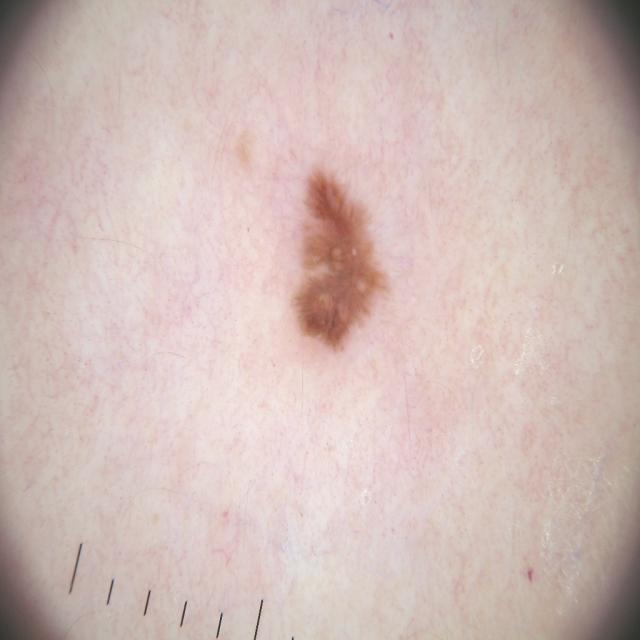Skin-Cancer Seborrheic keratosis: (71, 32, 628, 640)
